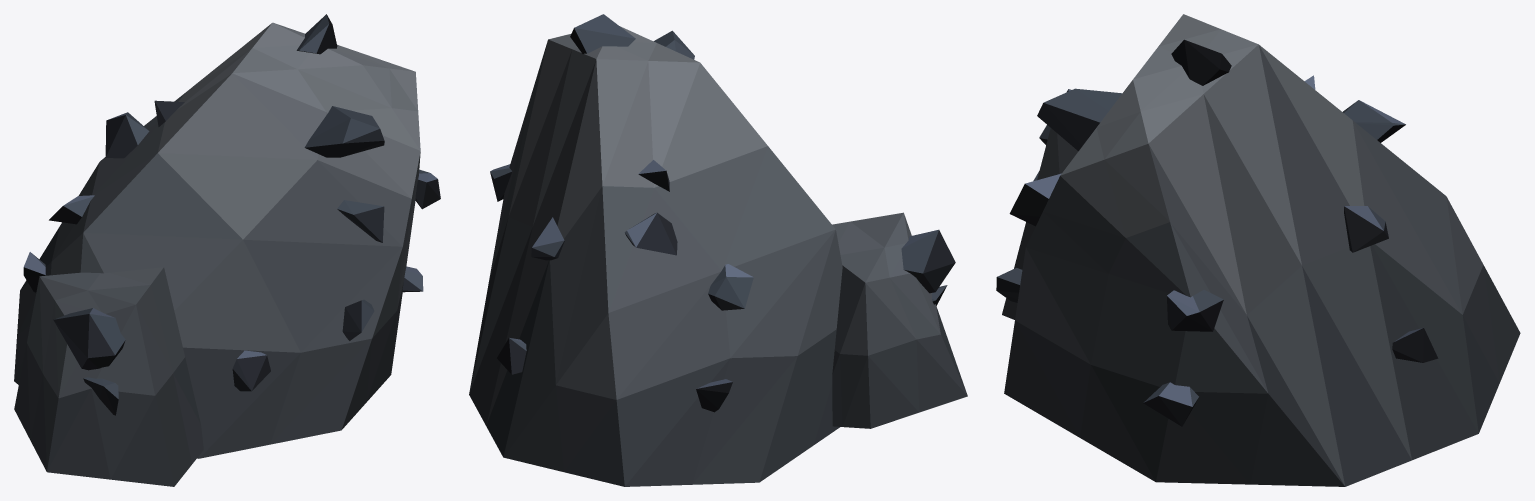
The model's file is Rocks_Ore_Coal2.glb.
The picture shows the model from 3 angles, left to right: view 1: azimuth 30°, elevation 25°; view 2: azimuth 150°, elevation 25°; view 3: azimuth 270°, elevation 25°; orthographic projection. The views are drawn at different scales.
Visible parts, largest first — view 1: Rocks_Ore_Coal2; view 2: Rocks_Ore_Coal2; view 3: Rocks_Ore_Coal2.
Boxes of the visible parts, left/top/right/bottom form: Rocks_Ore_Coal2: left=14, top=14, right=440, bottom=486; Rocks_Ore_Coal2: left=469, top=14, right=967, bottom=486; Rocks_Ore_Coal2: left=996, top=14, right=1520, bottom=486.
Bounding box in the file's own units: 1.4 × 1.1 × 1.25.
